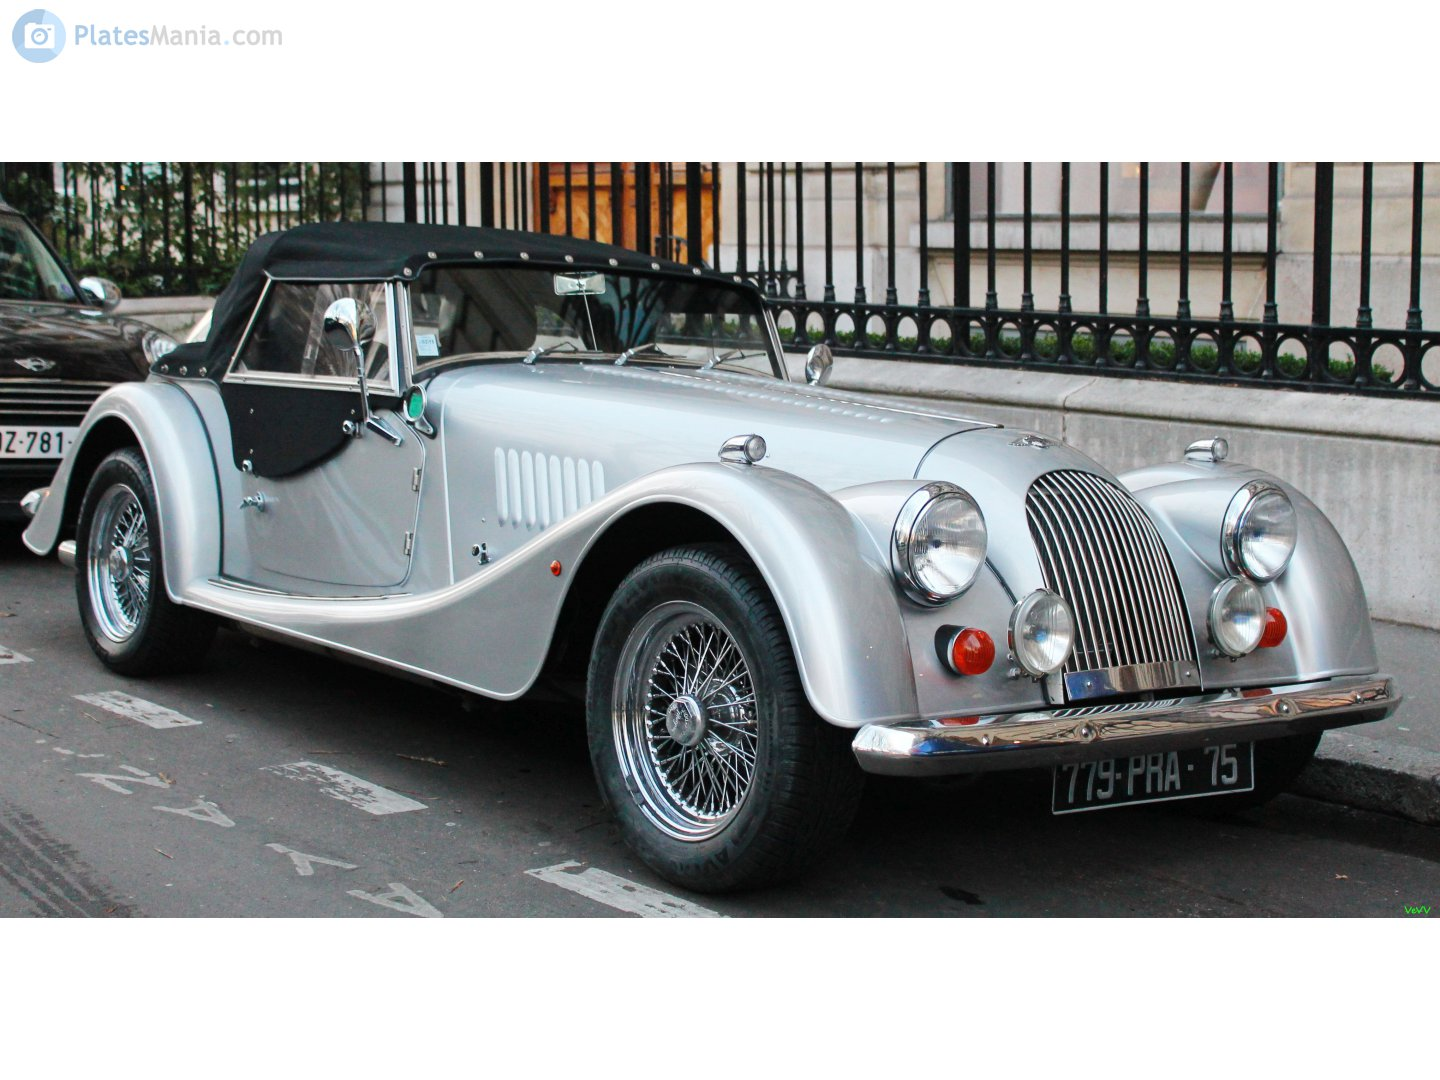licence plate: (1049, 735, 1255, 818)
